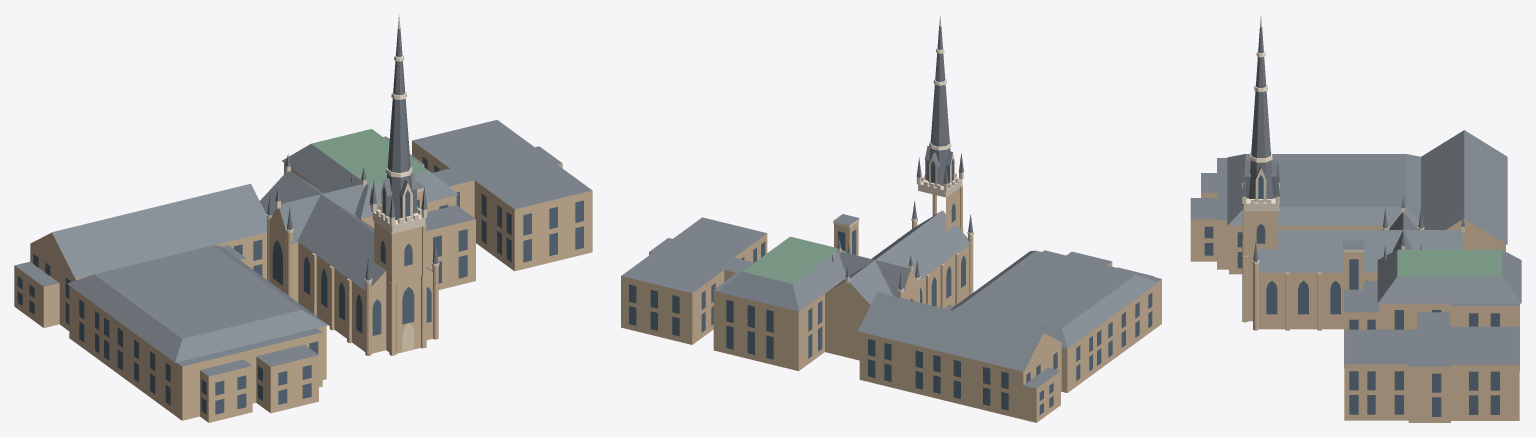
Rendered from first-presbyterian-charlotte.glb.
3 renders of one model, left to right at view 1: azimuth 30°, elevation 25°; view 2: azimuth 150°, elevation 25°; view 3: azimuth 270°, elevation 25°, orthographic. The views are drawn at different scales.
Parts seen in each view (by area): view 1: First Presbyterian Church, Charlotte; view 2: First Presbyterian Church, Charlotte; view 3: First Presbyterian Church, Charlotte.
Part boxes in pixels (<box>): First Presbyterian Church, Charlotte: <box>14,14,592,422</box>; First Presbyterian Church, Charlotte: <box>621,15,1161,422</box>; First Presbyterian Church, Charlotte: <box>1190,15,1521,422</box>.
Size of the model in its own units: 100 by 64 by 63.94.
